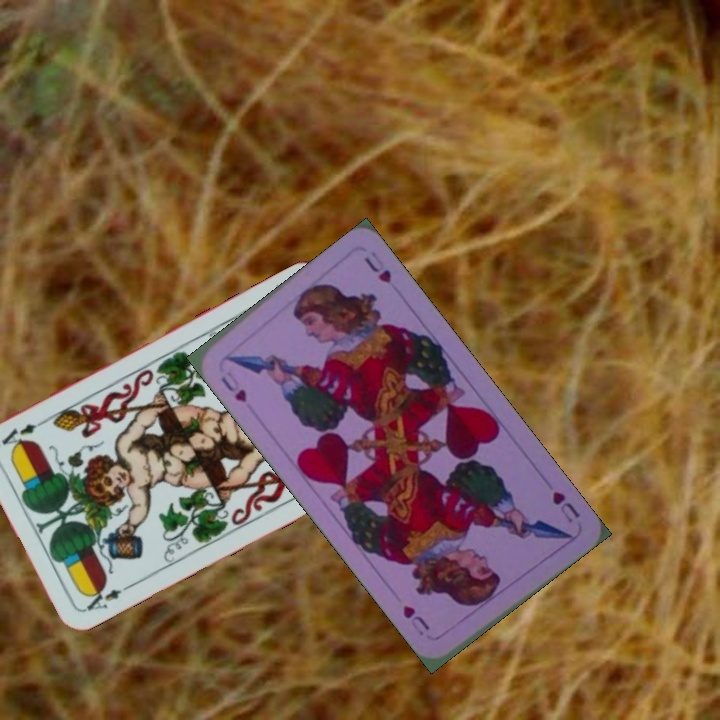EA: (82, 579, 136, 614)
HU: (548, 487, 583, 526), (217, 367, 250, 406)
